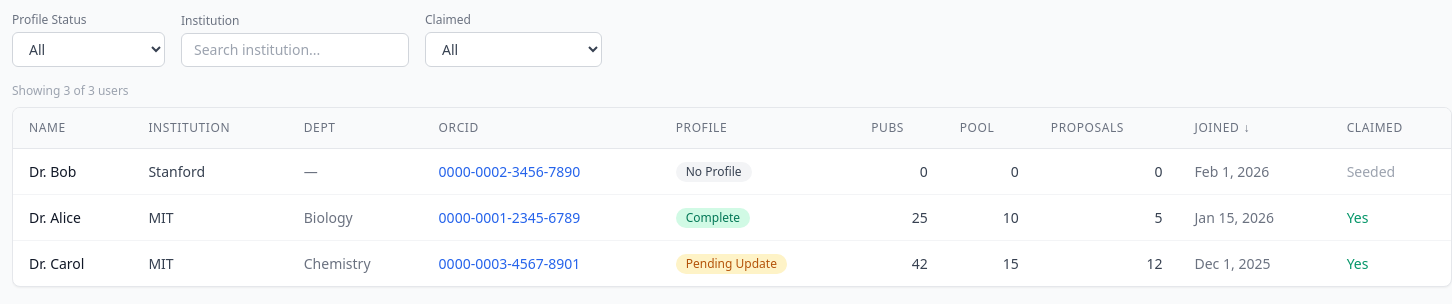
Test: UsersTable › filters by institution text search (case-insensitive)
Type "stan" into the field with placeholder "Search institution..." at (295, 50), box [181,33,409,67]
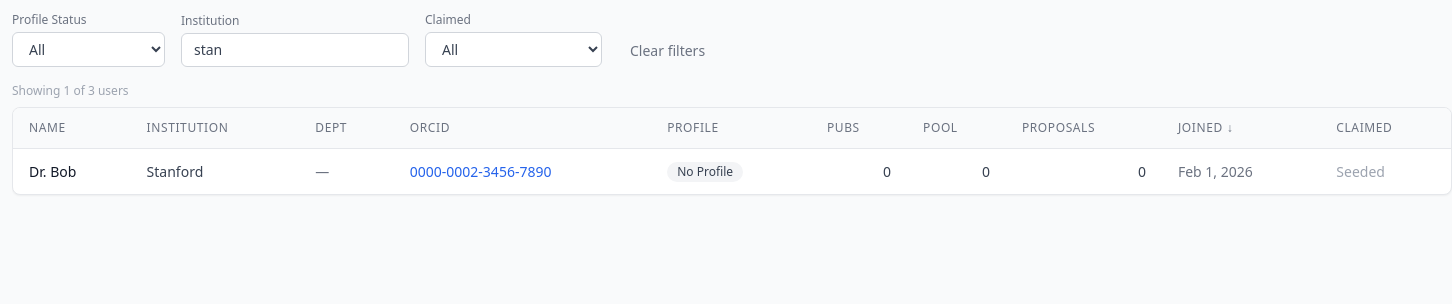
Check: the text "Dr. Bob" is shown, box [13,148,131,194]
Check: the text "Dr. Alice" is gone
Check: the text "Dr. Carol" is gone
